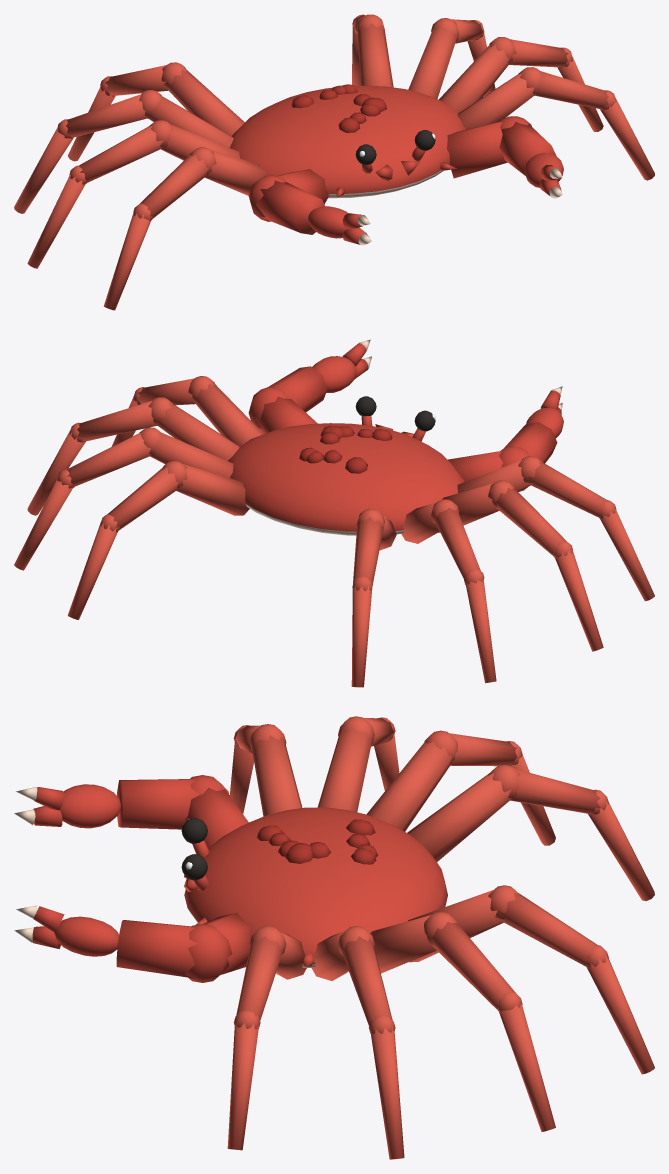
Rendered from sea-red-snow-crab.glb.
The picture shows the model from 3 angles, top to bottom: view 1: azimuth 30°, elevation 25°; view 2: azimuth 150°, elevation 25°; view 3: azimuth 270°, elevation 25°; orthographic projection. The views are drawn at different scales.
Visible parts, largest first — view 1: crab; view 2: crab; view 3: crab.
Part boxes in pixels (left/top/right/bottom): crab: left=14, top=14, right=654, bottom=310; crab: left=14, top=339, right=654, bottom=687; crab: left=14, top=716, right=654, bottom=1159.
Bounding box in the file's own units: 0.6079 × 0.1329 × 0.4665.
